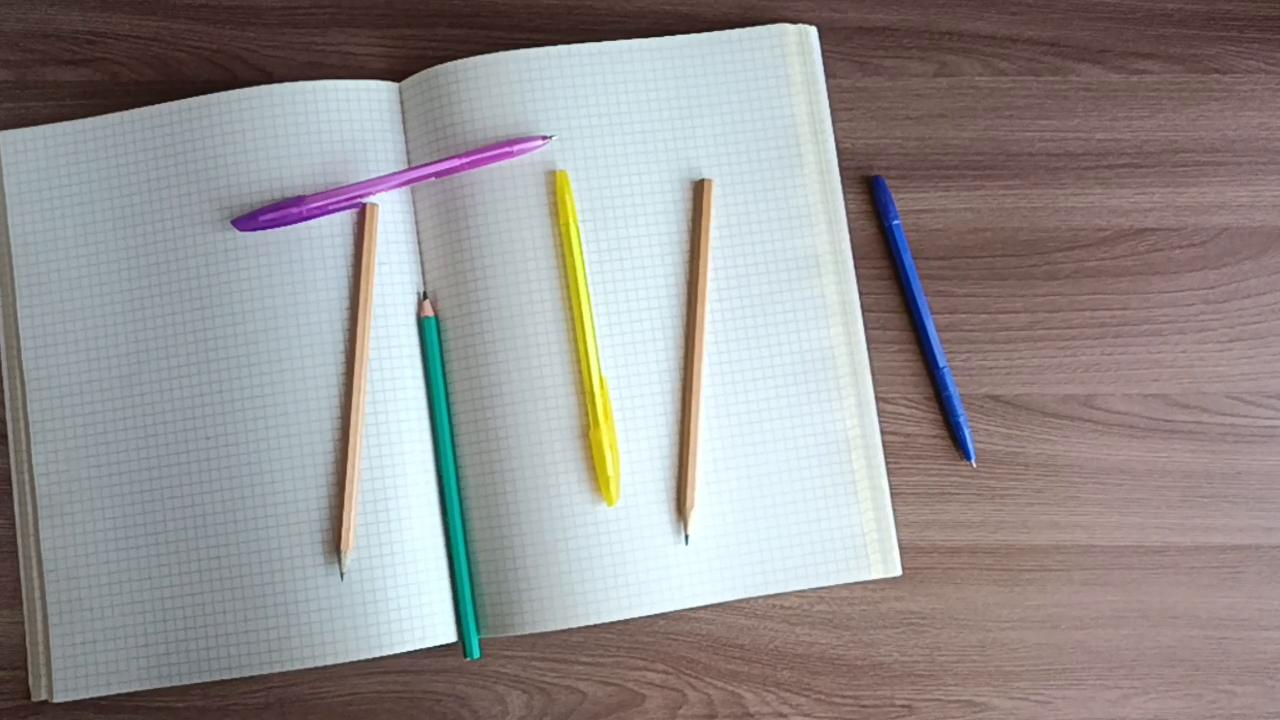pen: (229, 130, 576, 238), (864, 165, 981, 474), (547, 163, 628, 513)
pencil: (416, 289, 490, 663), (331, 202, 384, 584), (677, 173, 717, 548)
